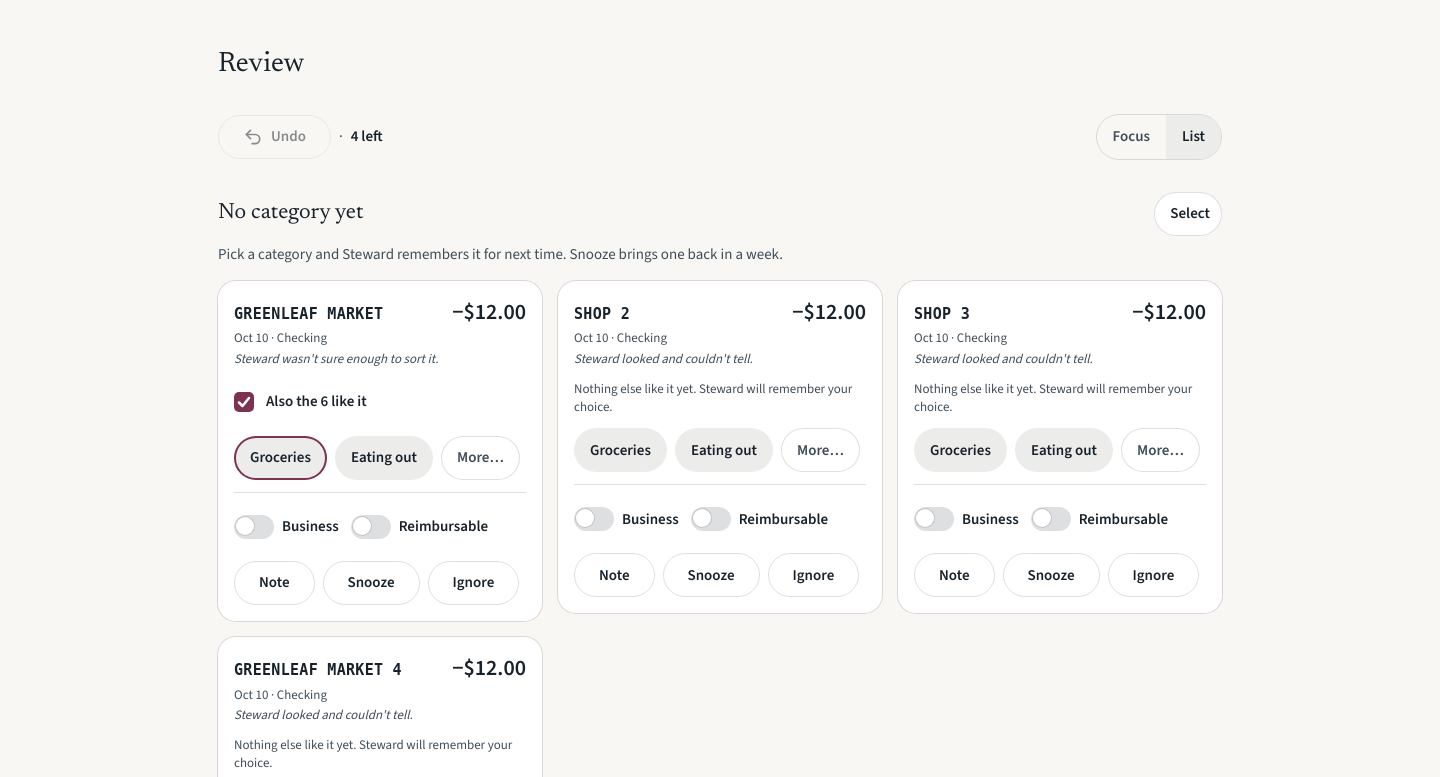
Test: the list (review focus P20, P21): a card acted on becomes a slim row in its place › Z undoes the newest first; a 409 drops that entry with the server's words, and ↶ is disabled once empty
This screenshot has width=1440, height=777.
Click the button "Groceries" below "Also the 6 like it".
click(280, 458)  # box [234, 436, 327, 480]
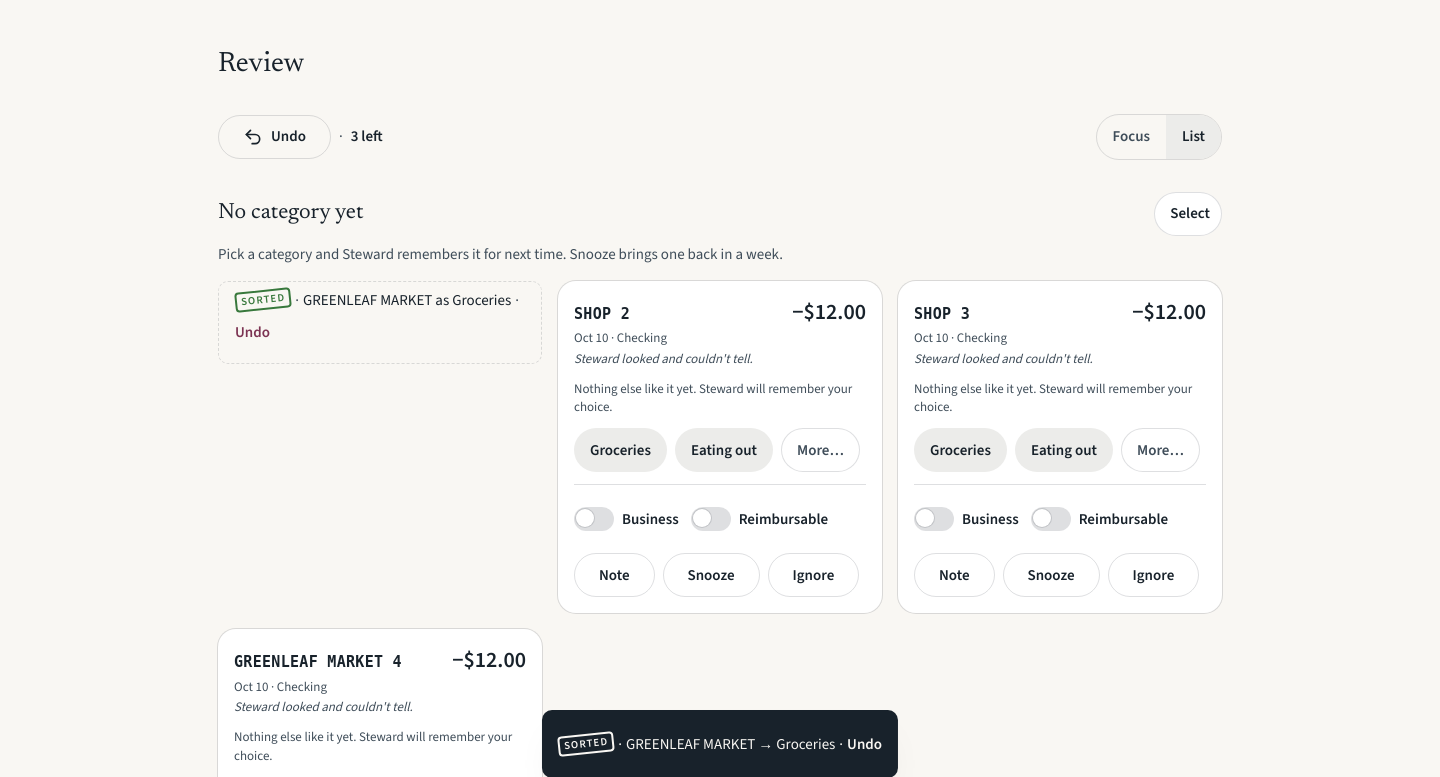
Now the element with test id "slim-row" is shown, box [218, 281, 542, 364]
Click the button "Snooze" below "SHOP 2".
click(711, 575)  # box [662, 553, 760, 597]
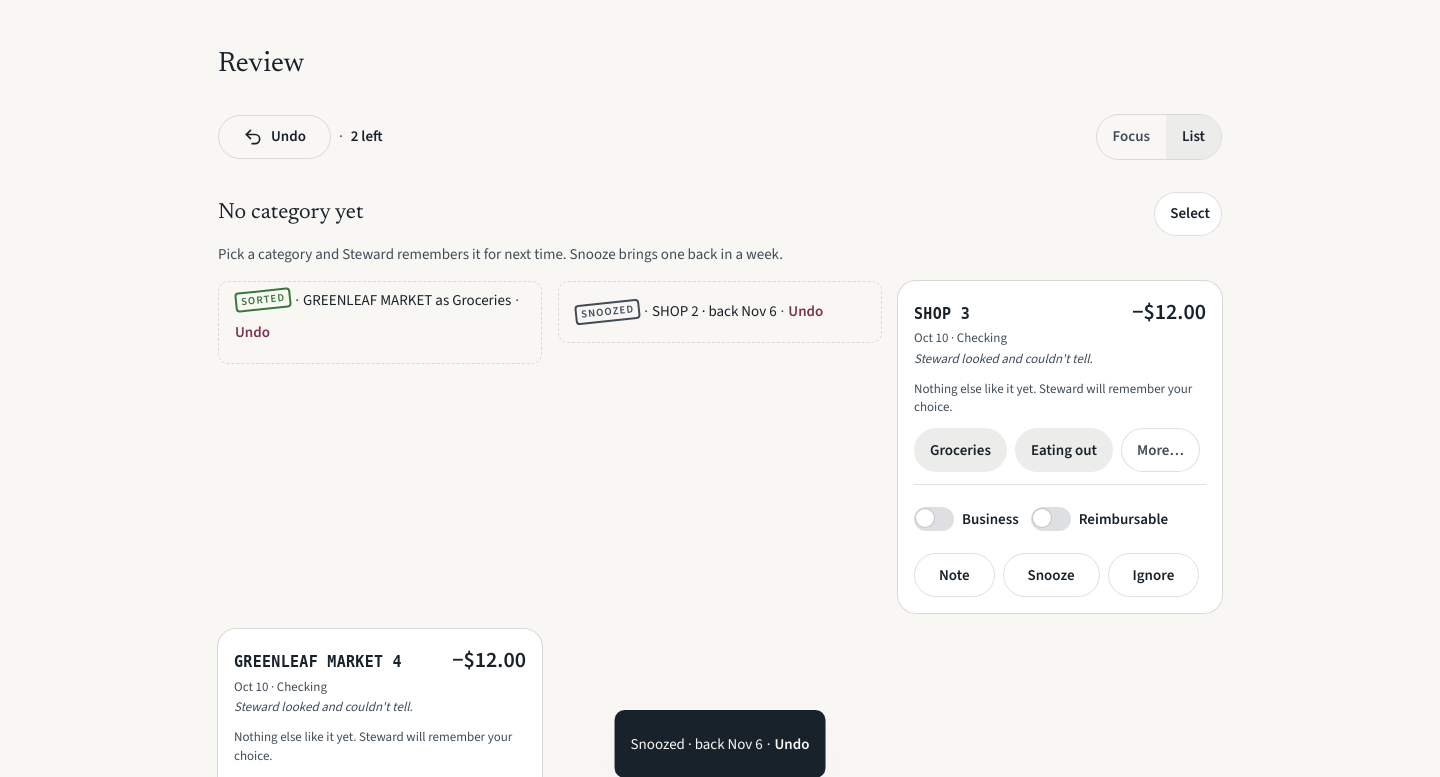
Now the element with test id "slim-row" that starts with "SNOOZED" is shown, box [558, 281, 882, 343]
Press z
(page scrolled)
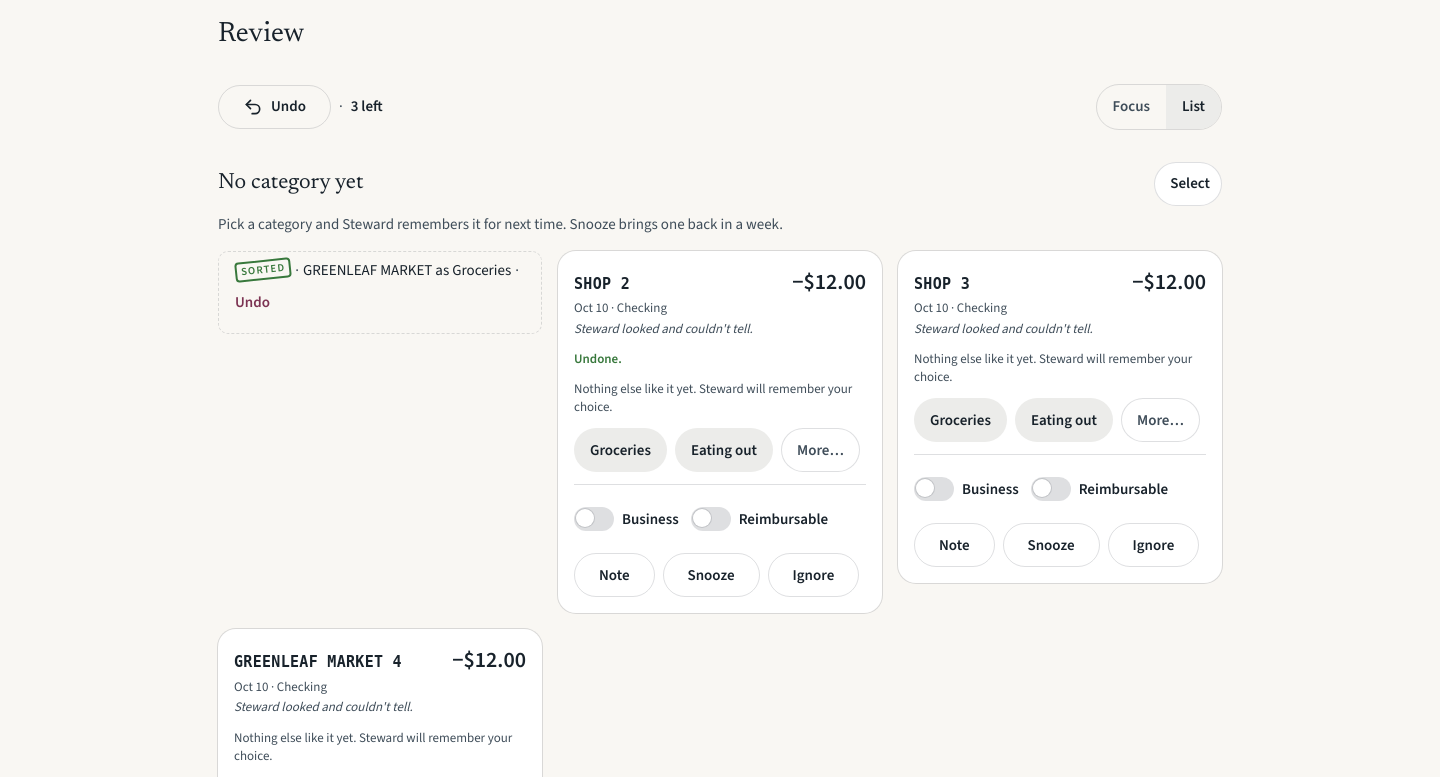
Press Z
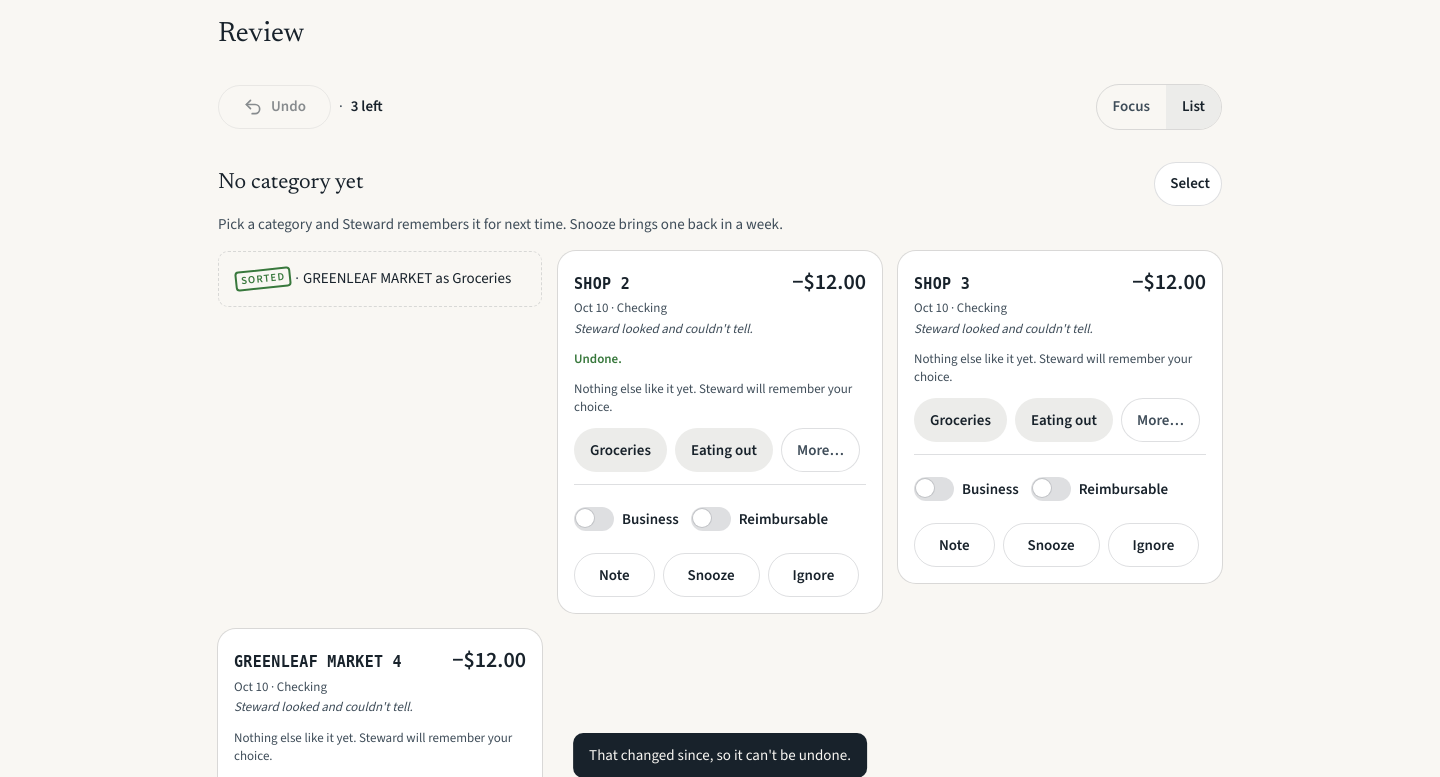
Now the message with class "undo-toast" reads "That changed since, so it can't be undone.", box [589, 745, 851, 765]
Now the button "Undo" is disabled, box [218, 85, 331, 129]
